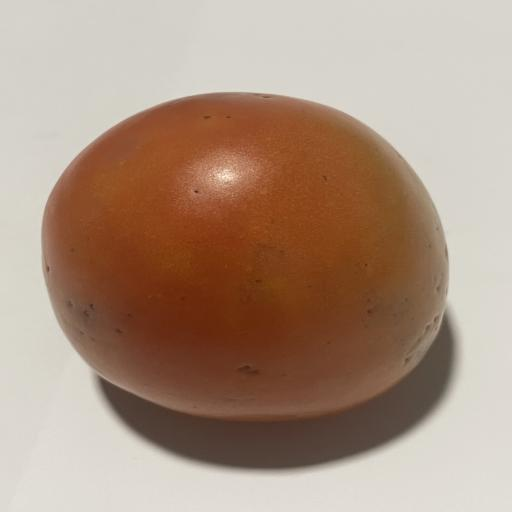unripe: (42, 93, 448, 420)
